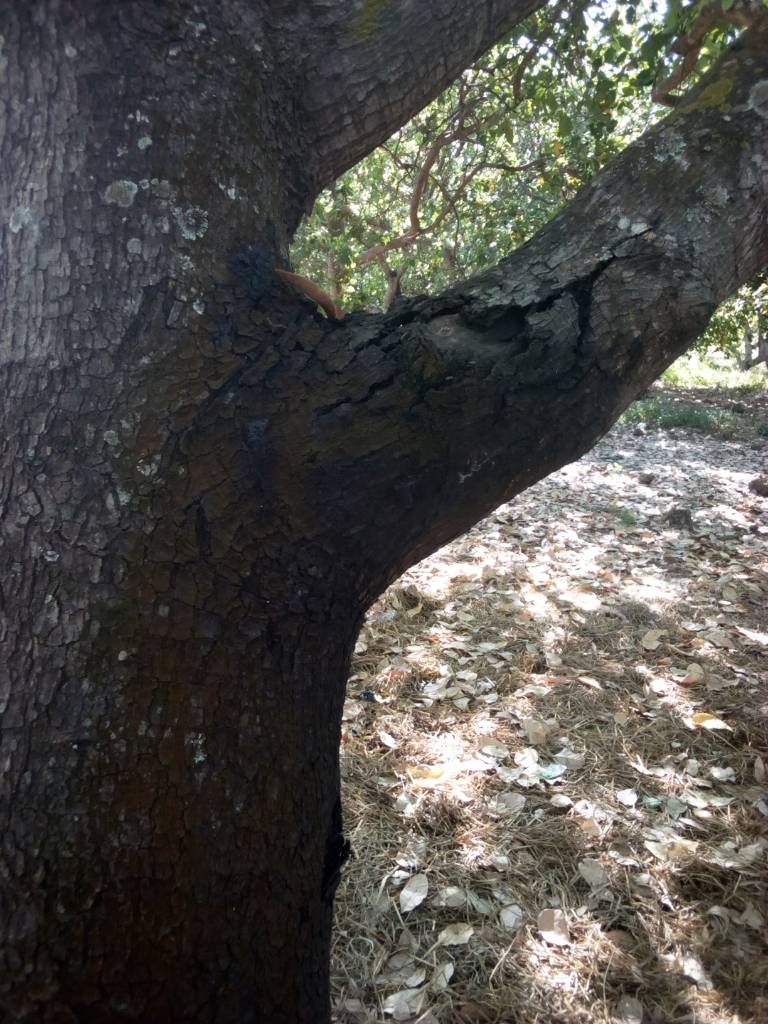Gommose: (147, 241, 627, 694)
